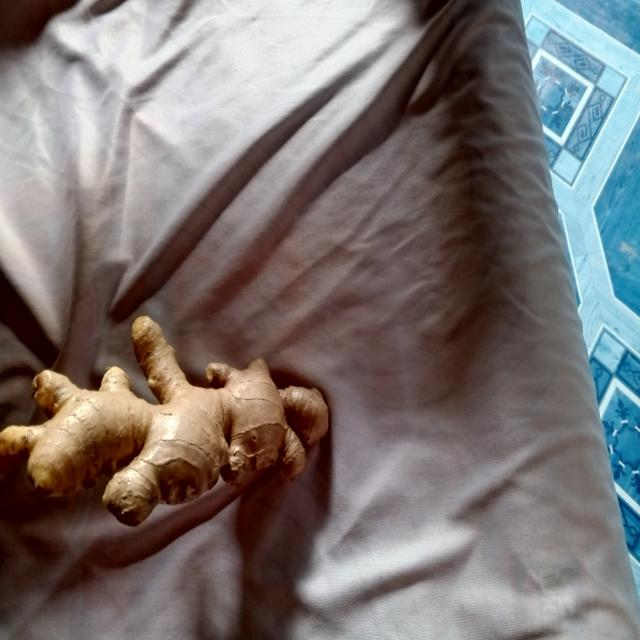ginger: (9, 303, 347, 546)
